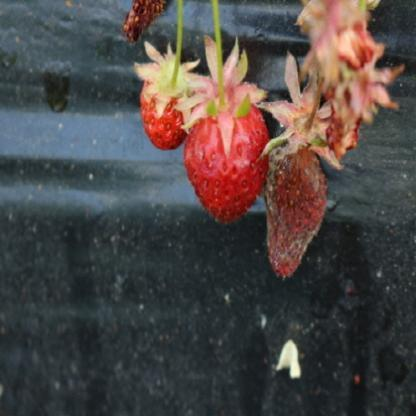Strawberry_Gray_Mold: (256, 53, 344, 280)
